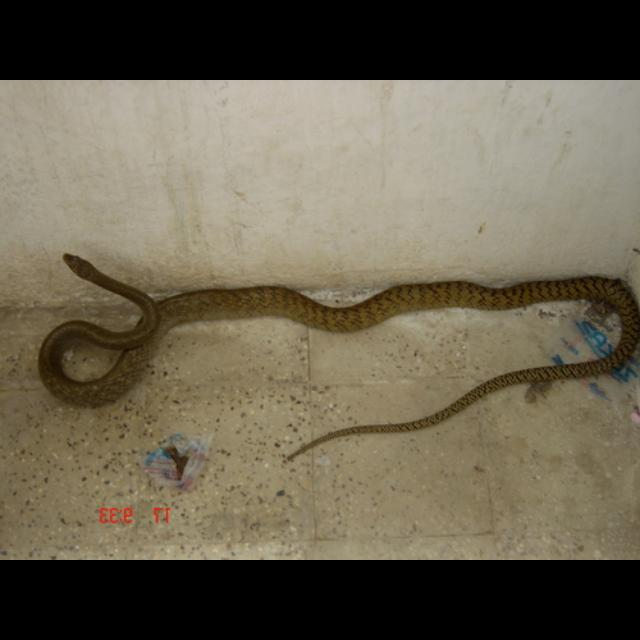snake: (38, 251, 640, 459)
